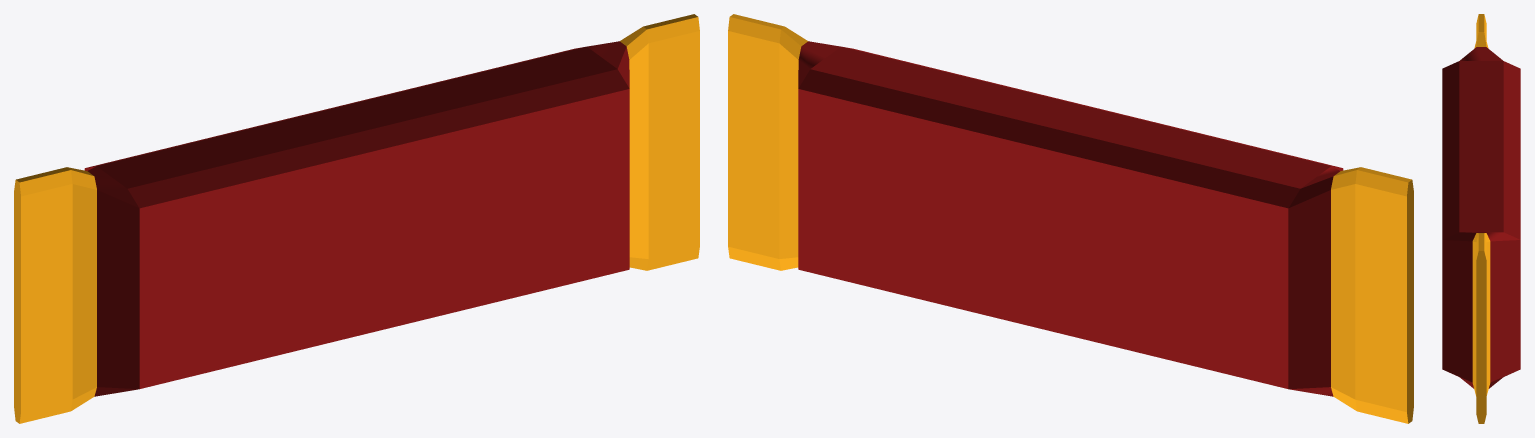
The model's file is Wafer Cookie 1.fbx.
The picture shows the model from 3 angles, left to right: view 1: azimuth 30°, elevation 25°; view 2: azimuth 150°, elevation 25°; view 3: azimuth 270°, elevation 25°; orthographic projection. The views are drawn at different scales.
Visible parts, largest first — view 1: Node 0; view 2: Node 0; view 3: Node 0.
Part boxes in pixels (x1=…): Node 0: x1=14, y1=14, x2=699, y2=423; Node 0: x1=728, y1=14, x2=1413, y2=423; Node 0: x1=1442, y1=14, x2=1520, y2=423.
Size of the model in its own units: 0.017 by 0.0413 by 0.1215.
